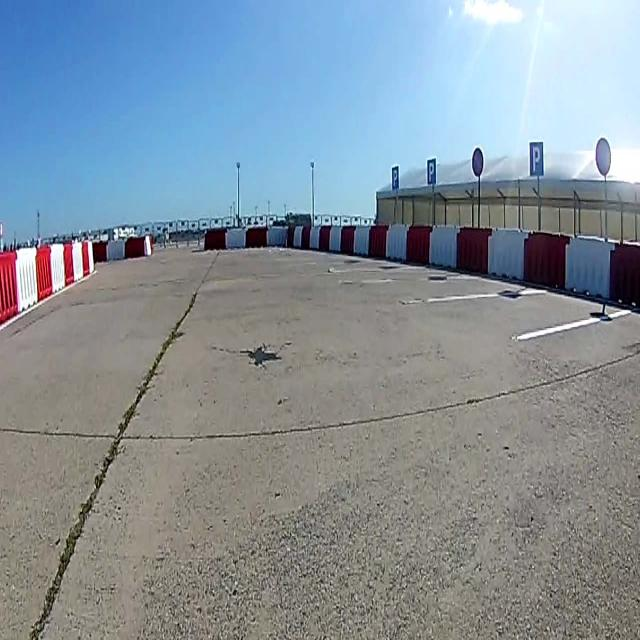park: (529, 142, 543, 177), (426, 157, 436, 184), (392, 166, 399, 191)
parkyasak: (595, 137, 611, 177), (472, 147, 484, 177)
